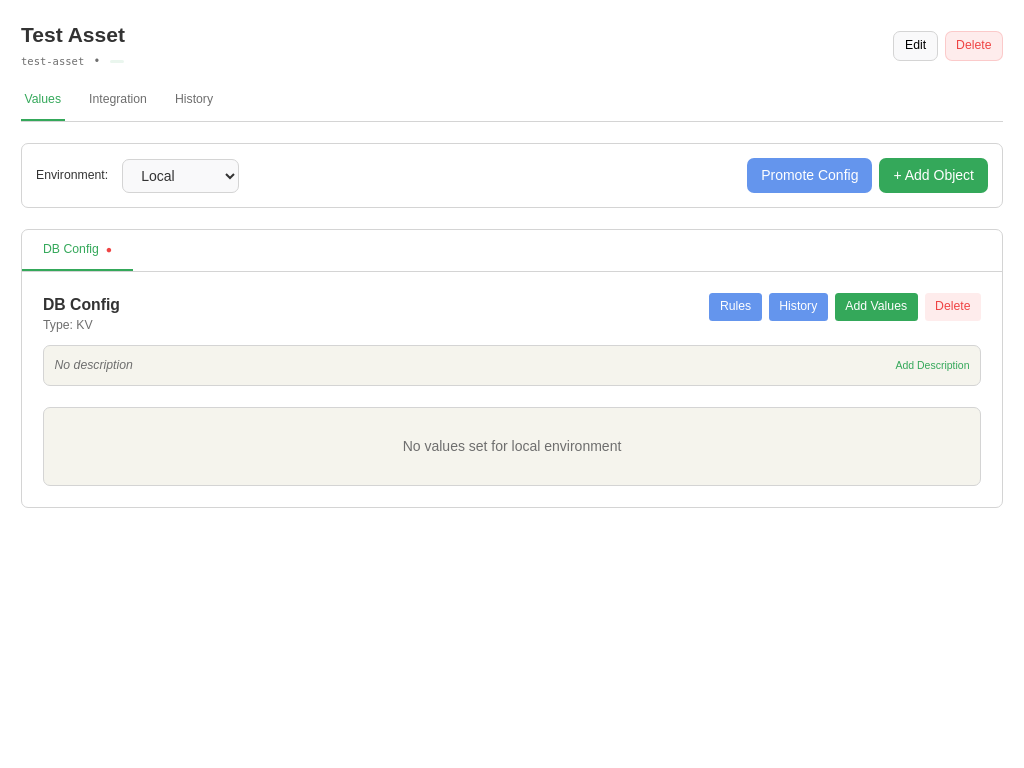
AssetDetail.vue › opens add object modal
Click the button "+ Add Object".
click(934, 176)  # box [879,158,988,193]
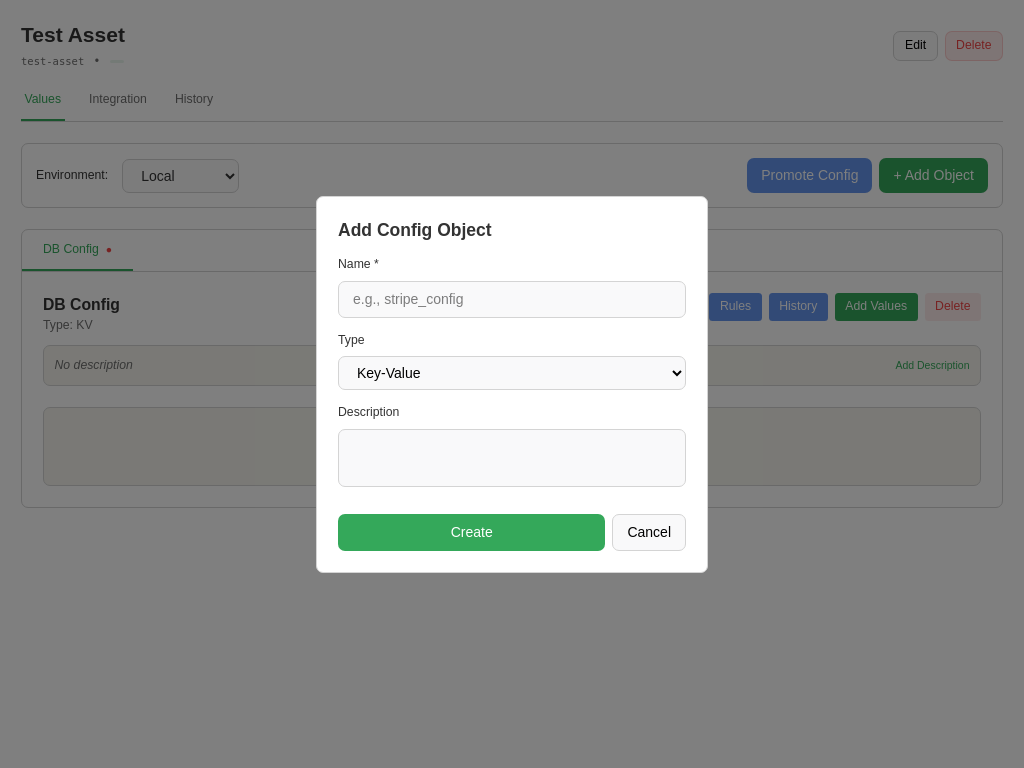
Check: the text "Add Config Object" is shown, box [338,220,492,240]
